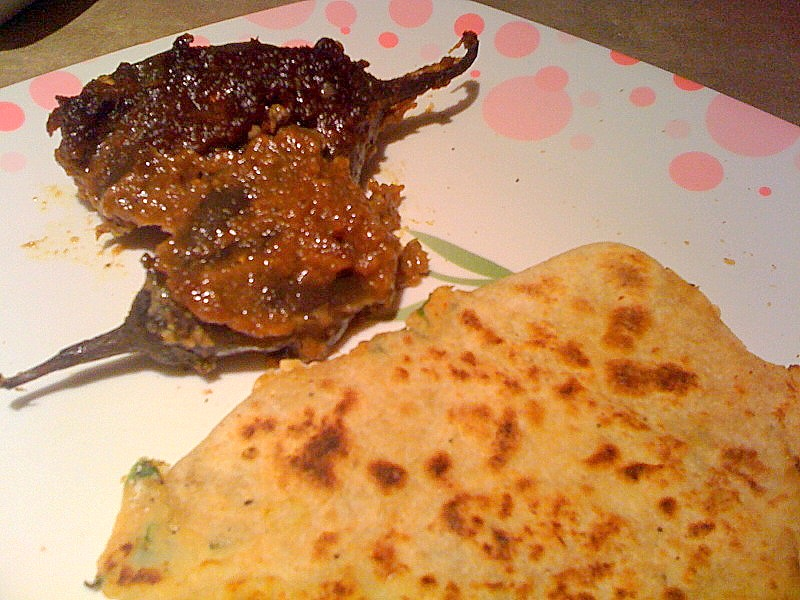aloo_paratha: (95, 250, 799, 600)
